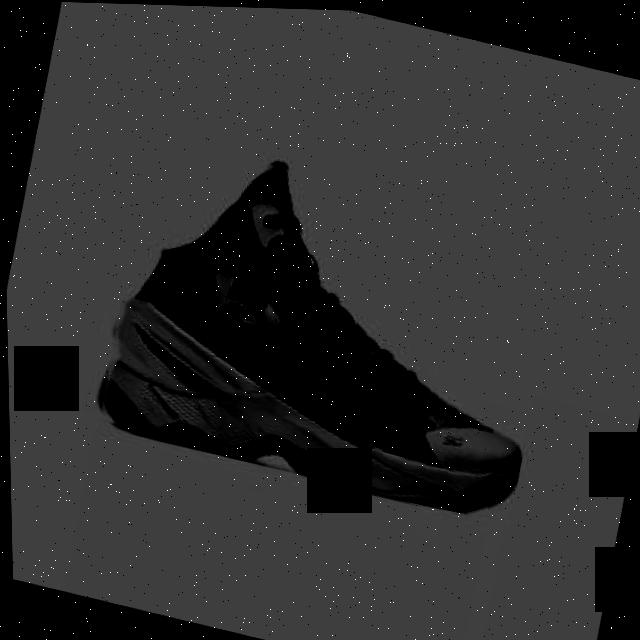shoe: (85, 126, 569, 524)
